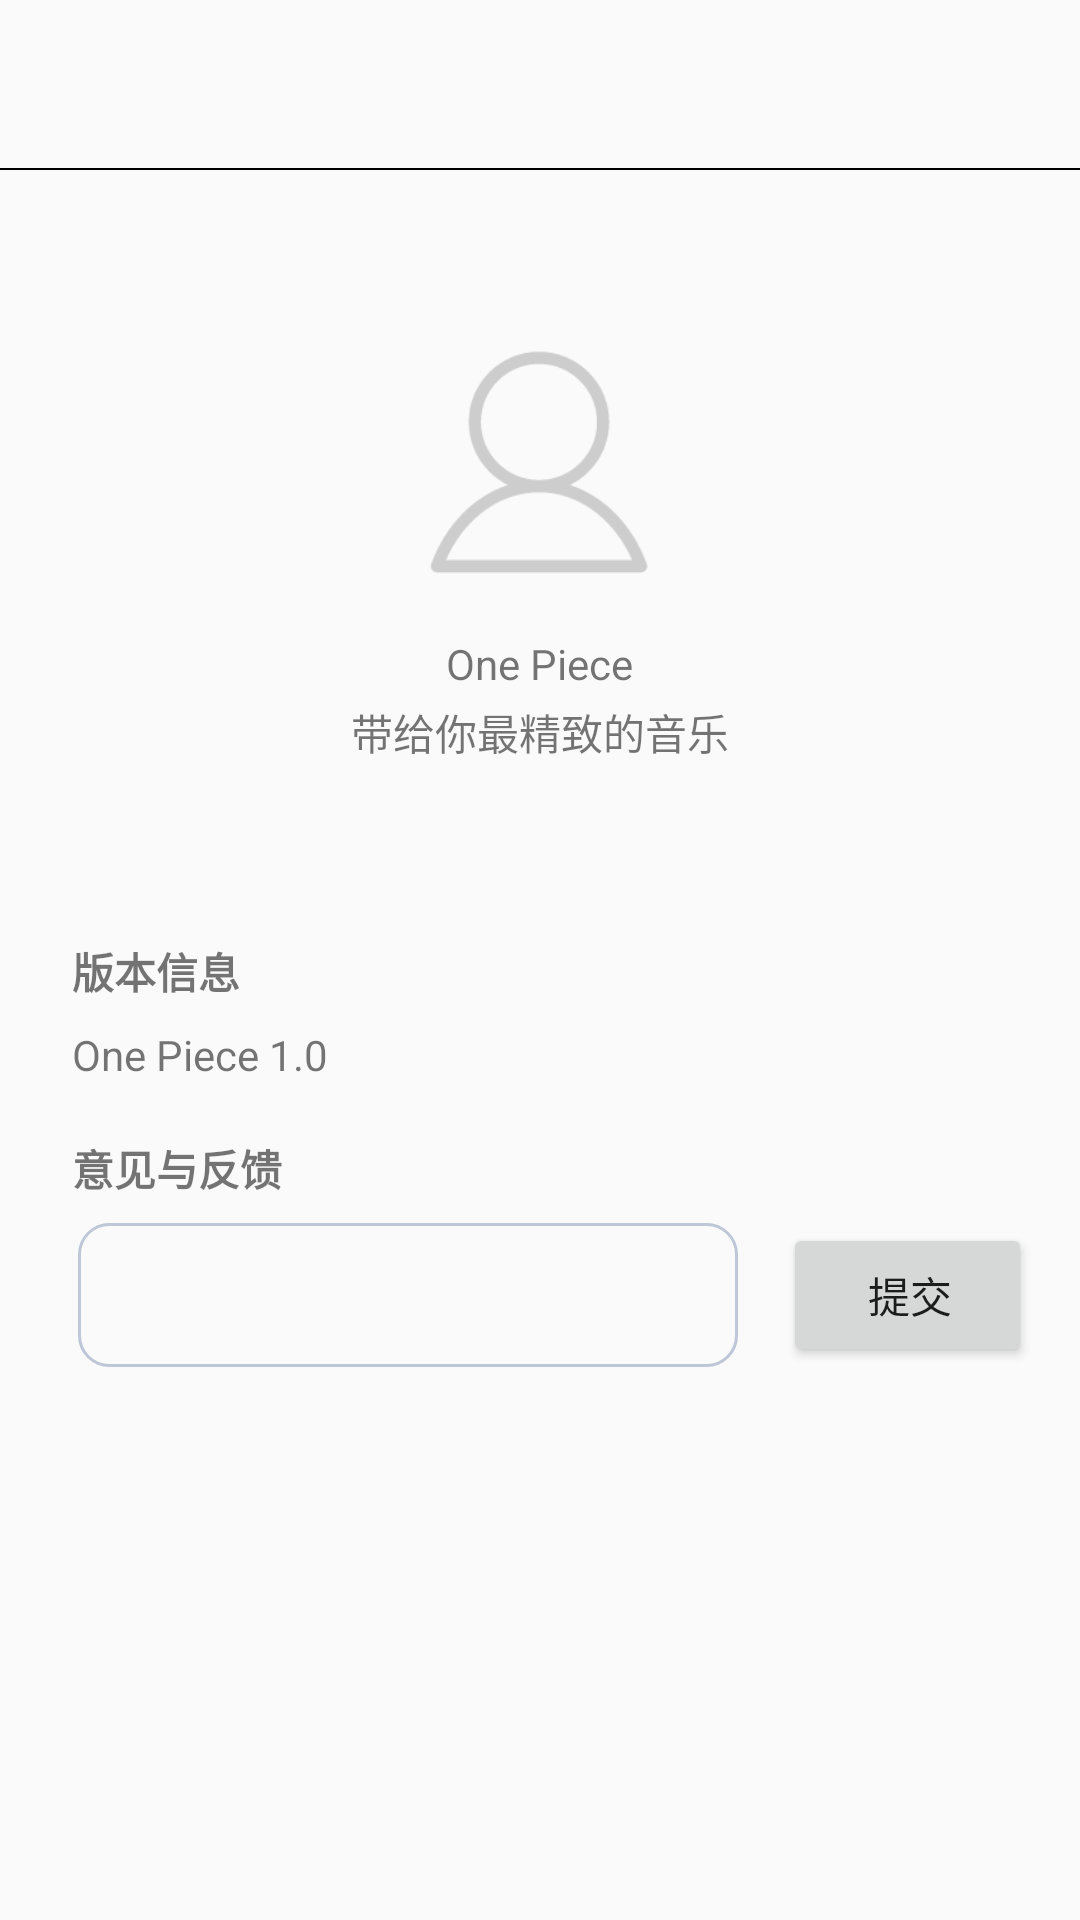

Named icons in this screenshot (1080w x 1920h) and their bounding boxes, (x1, y1, x2, y2):
account: (431, 352, 647, 572)
